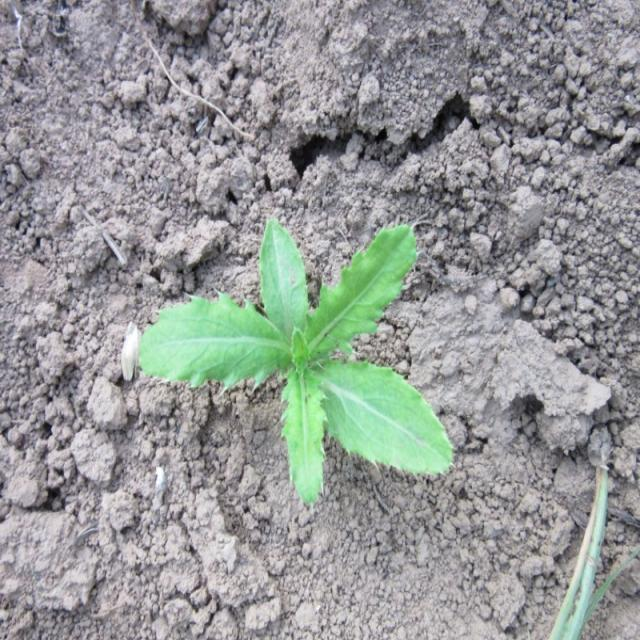cs: (130, 208, 460, 508)
